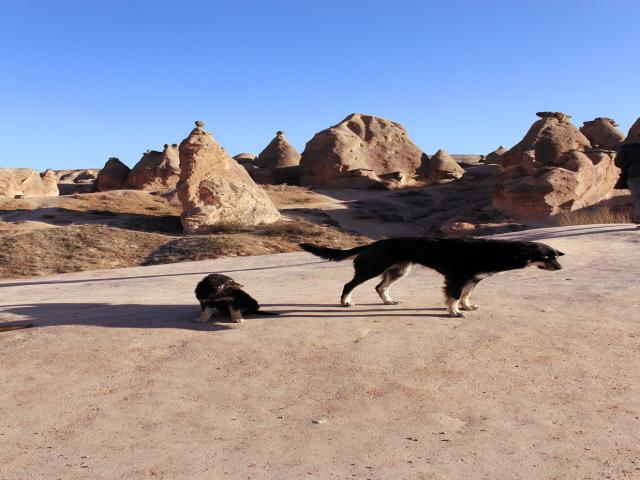Dog: (298, 237, 567, 316), (196, 272, 262, 324)
